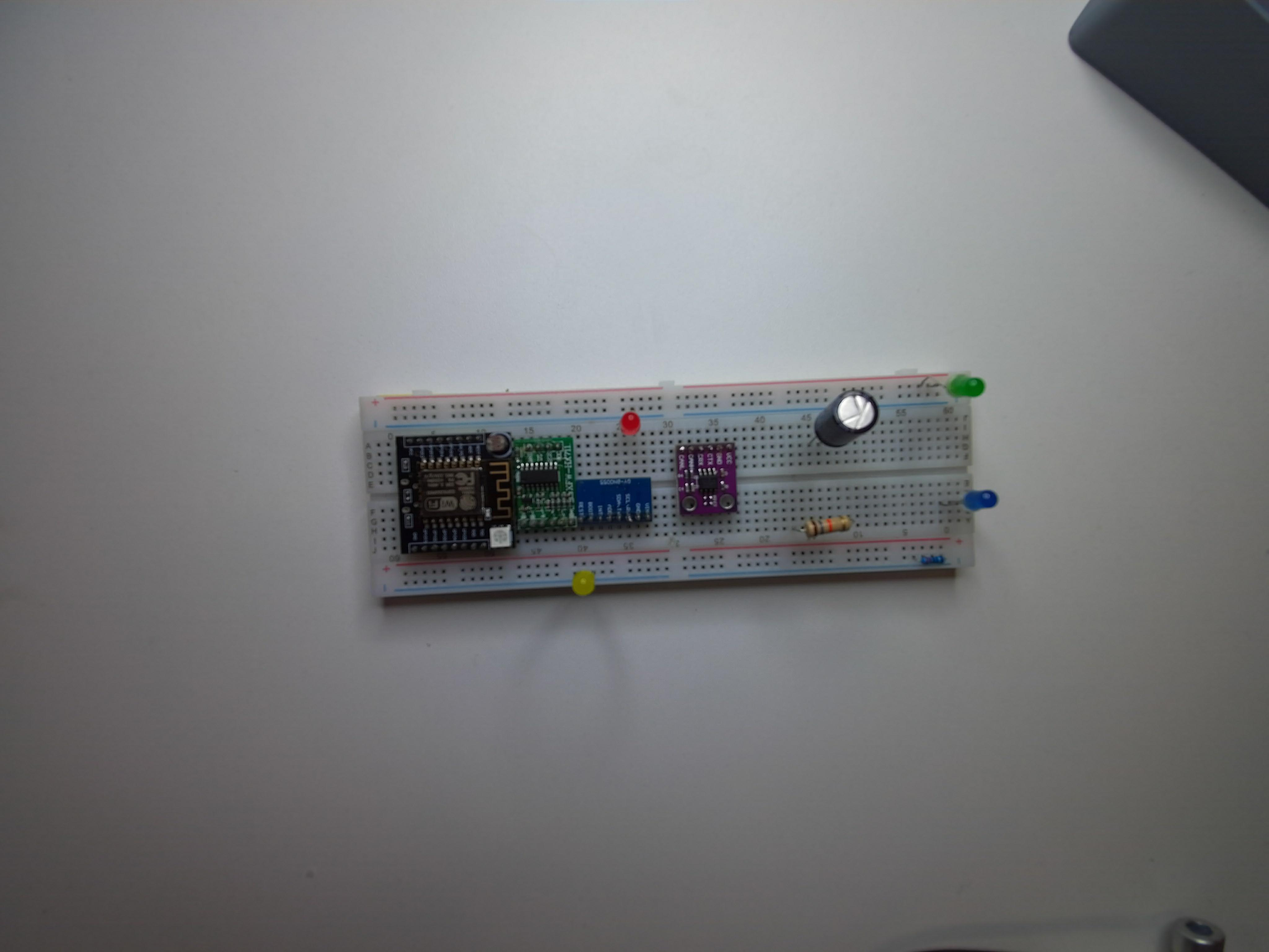base: (355, 370, 985, 604)
blue-board: (574, 475, 653, 532)
blue-led: (959, 485, 1002, 516)
capacitor: (815, 389, 880, 448)
esp: (393, 433, 516, 556)
green-board: (517, 440, 573, 531)
green-led: (948, 374, 987, 399)
purple-board: (673, 441, 738, 522)
red-led: (620, 409, 640, 433)
resistor-big: (802, 514, 852, 538)
resistor-small: (917, 550, 944, 572)
yellow-led: (564, 566, 599, 604)
